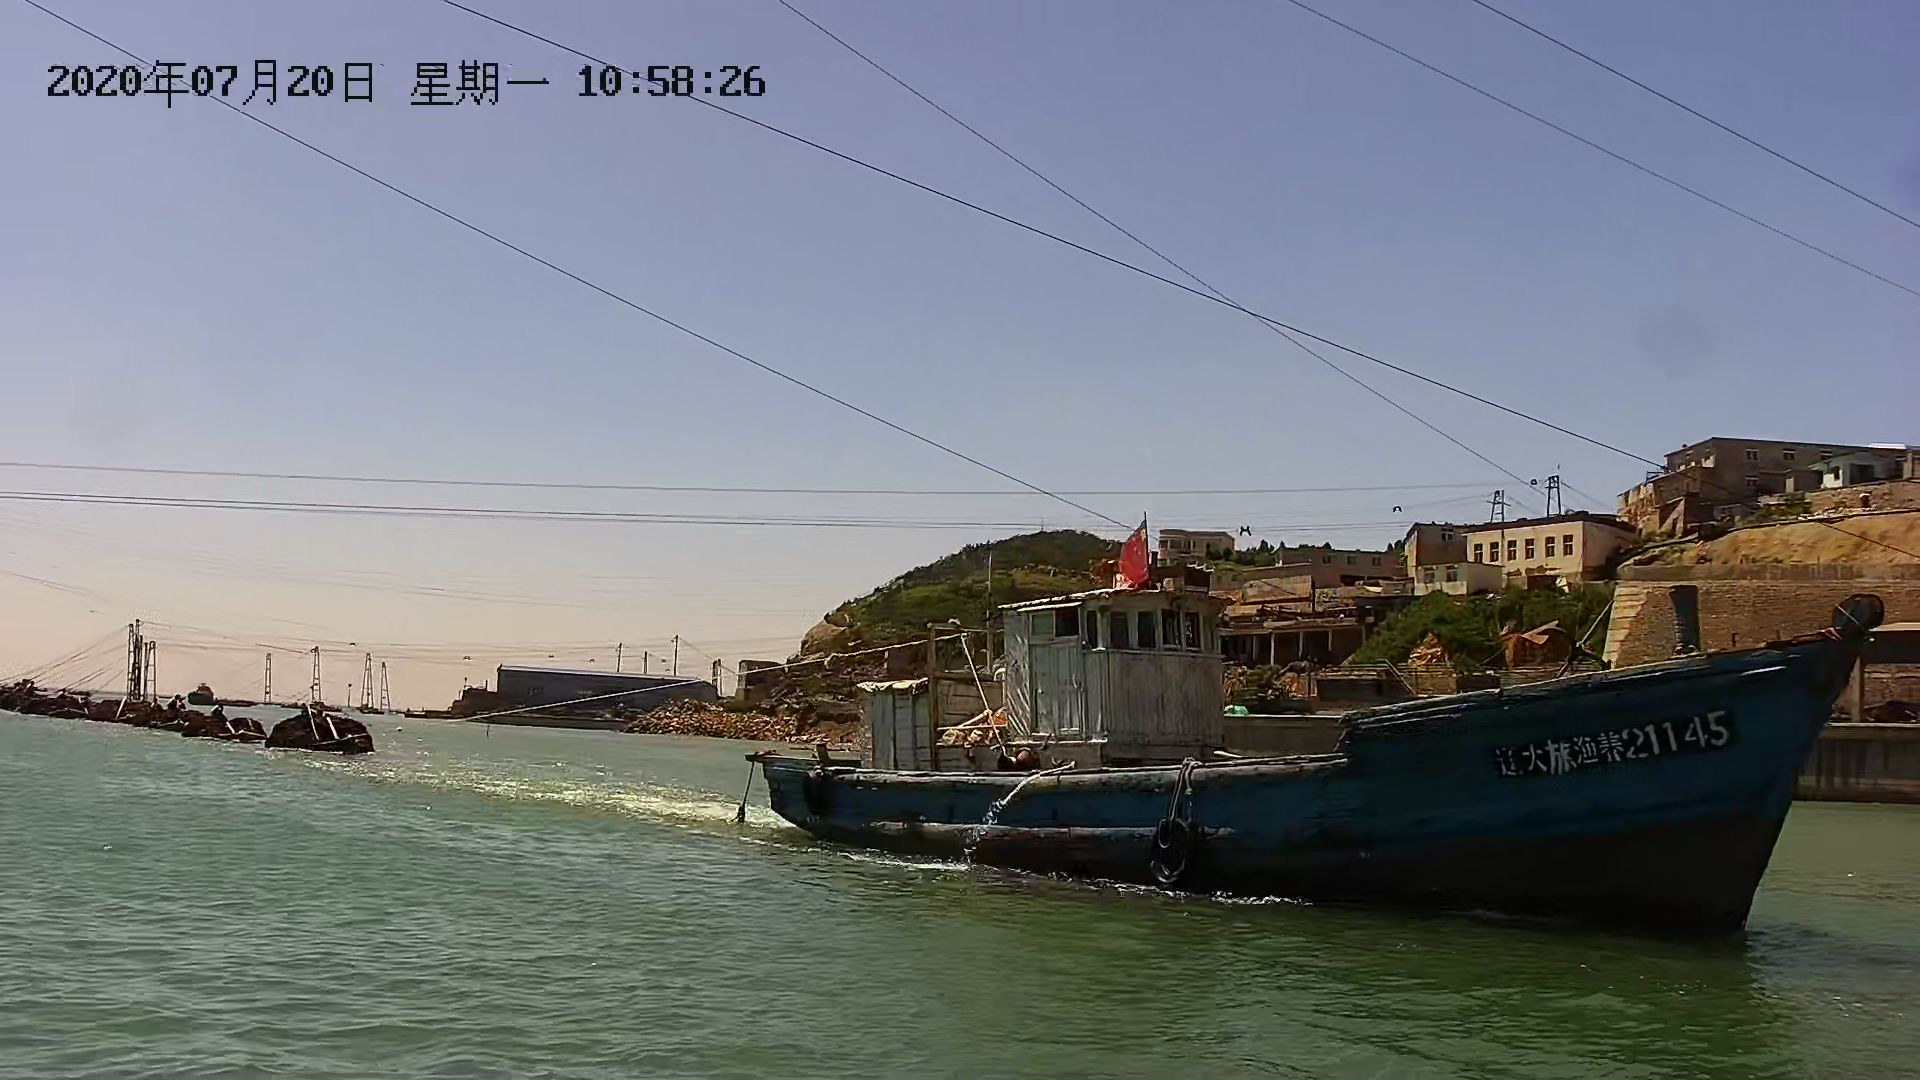rubbish: (1, 666, 377, 758)
ship: (713, 575, 1880, 949)
